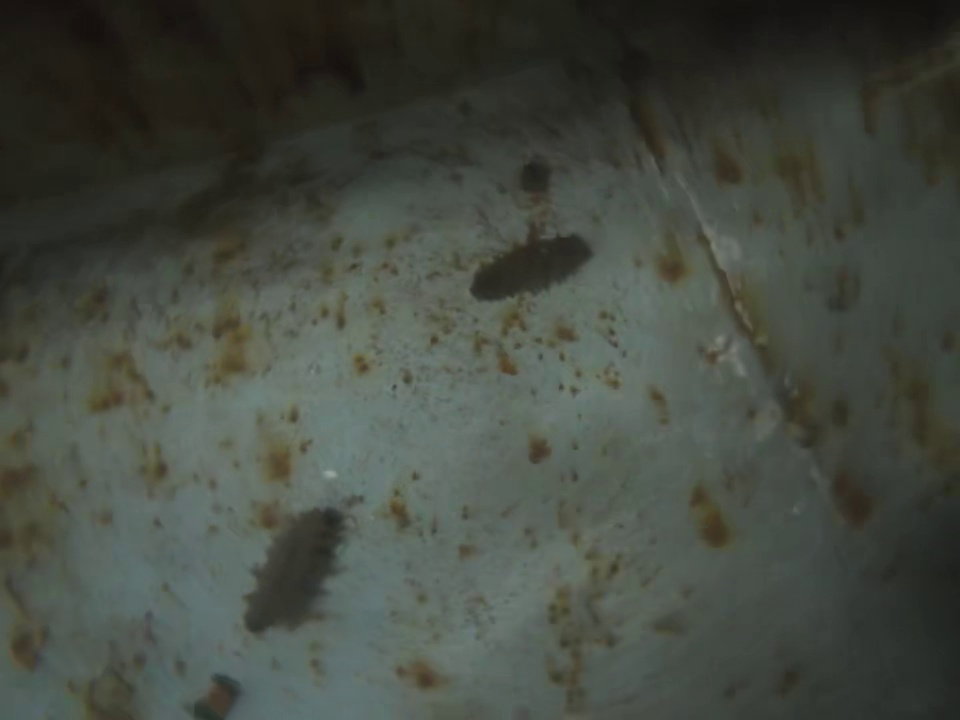seacucumber: (242, 502, 344, 634), (466, 228, 598, 303)
